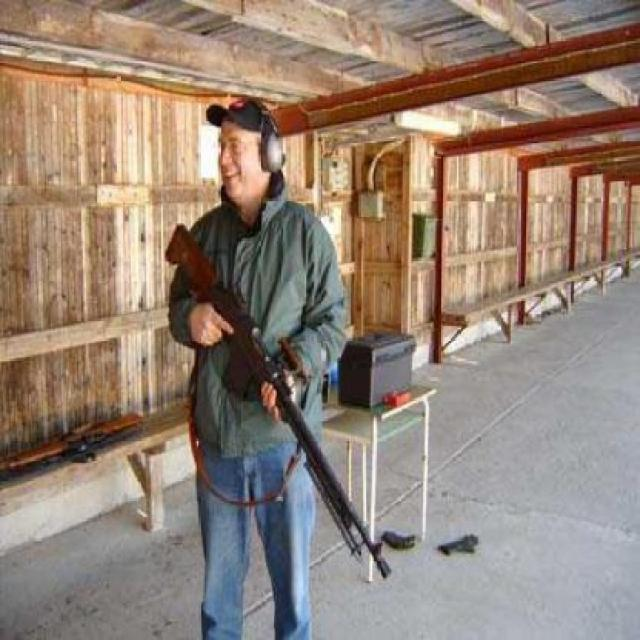weapon: (162, 222, 393, 582), (0, 410, 149, 480)
